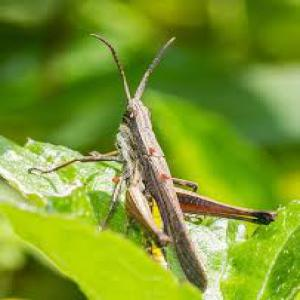locust: (91, 43, 276, 298)
